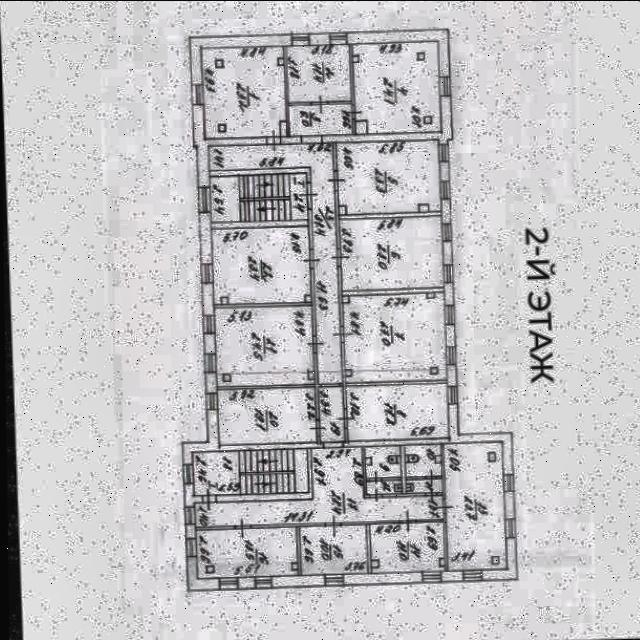room: (207, 142, 340, 389), (191, 446, 441, 527), (341, 294, 445, 384), (352, 42, 441, 135), (212, 307, 312, 387), (201, 48, 287, 140), (442, 445, 503, 573), (339, 218, 443, 293), (211, 227, 310, 305), (336, 141, 440, 215), (344, 386, 446, 443), (216, 388, 315, 445), (191, 449, 307, 496), (194, 528, 295, 578), (208, 174, 307, 222), (367, 523, 442, 574), (287, 46, 350, 103), (298, 527, 364, 575), (289, 105, 352, 137), (316, 388, 342, 443), (403, 445, 440, 478), (363, 447, 398, 479), (404, 480, 440, 495), (364, 482, 399, 496)
